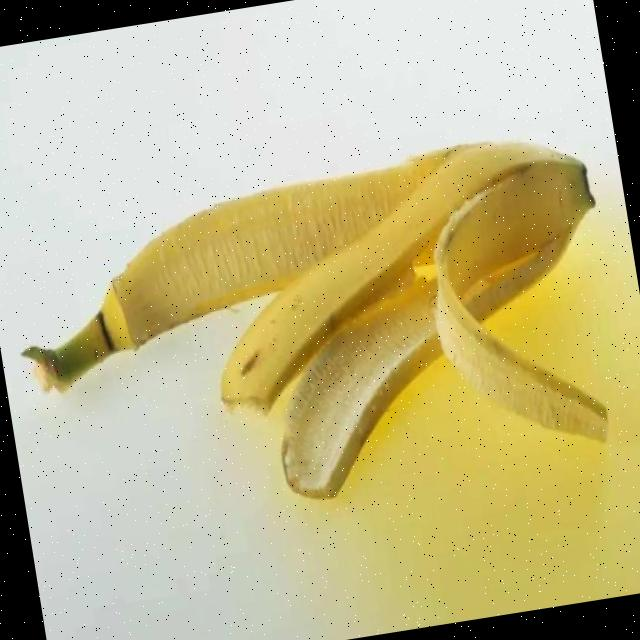banana-peel: (0, 121, 635, 541), (186, 124, 618, 420), (0, 141, 494, 399)
